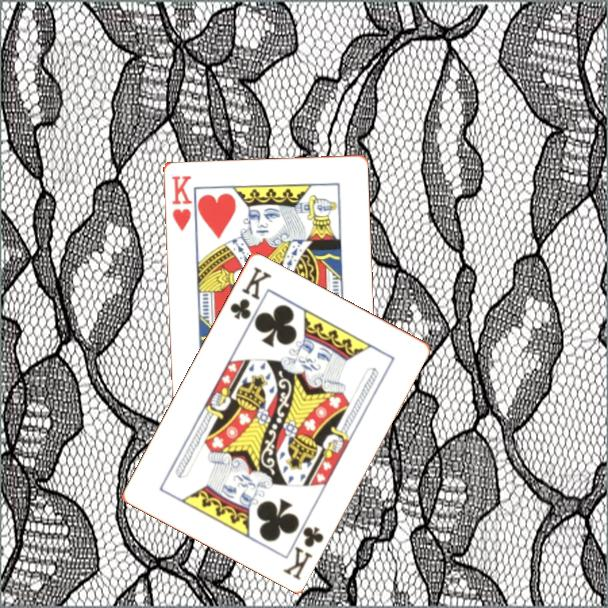c13: (279, 522, 327, 583), (226, 263, 274, 322)
h13: (168, 172, 195, 234)
